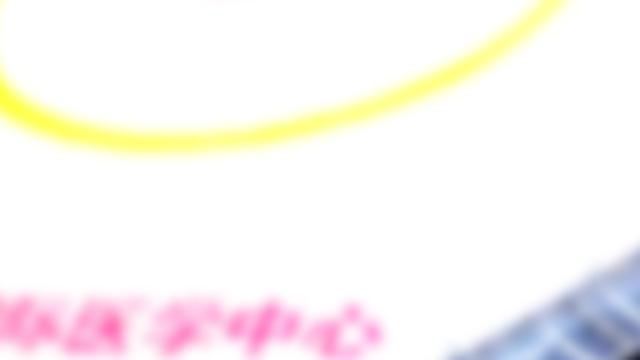Apron: (1, 1, 588, 166)
